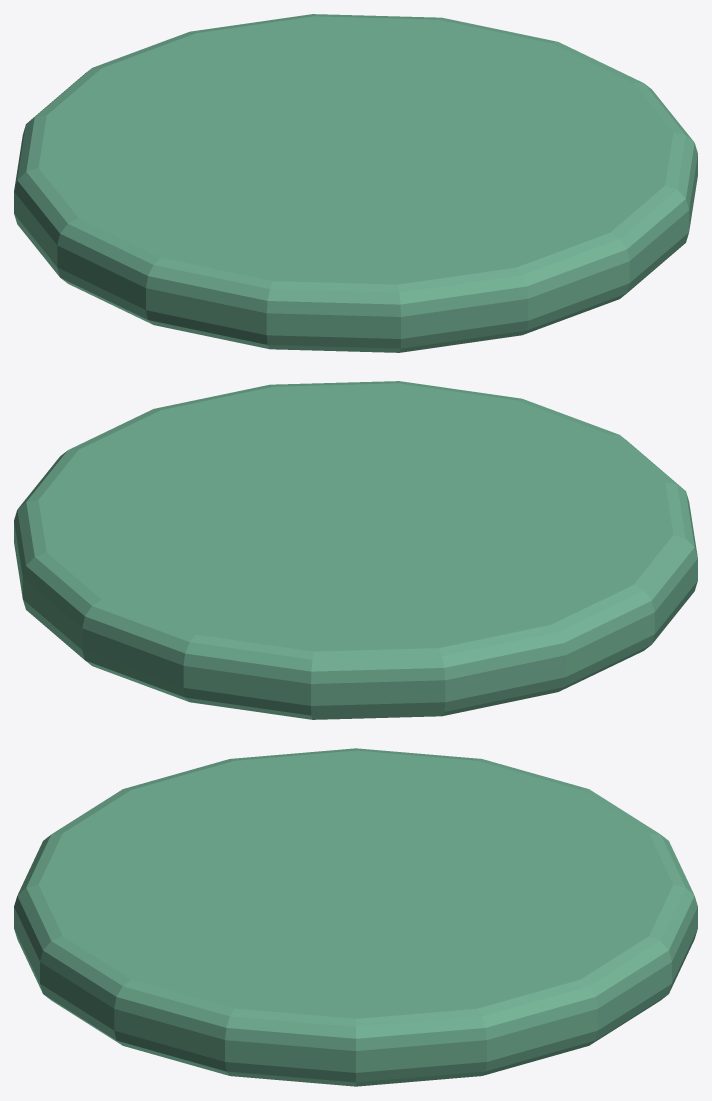
3 renders of one model, top to bottom at view 1: azimuth 30°, elevation 25°; view 2: azimuth 150°, elevation 25°; view 3: azimuth 270°, elevation 25°, orthographic.
Visible parts, largest first — view 1: ai_export.009; view 2: ai_export.009; view 3: ai_export.009.
Boxes of the visible parts, box(x1,y1,x2,y2) form: ai_export.009: box(14, 14, 697, 352); ai_export.009: box(14, 381, 697, 719); ai_export.009: box(14, 748, 697, 1086).
Size of the model in its own units: 2.84 by 0.3 by 2.84.
